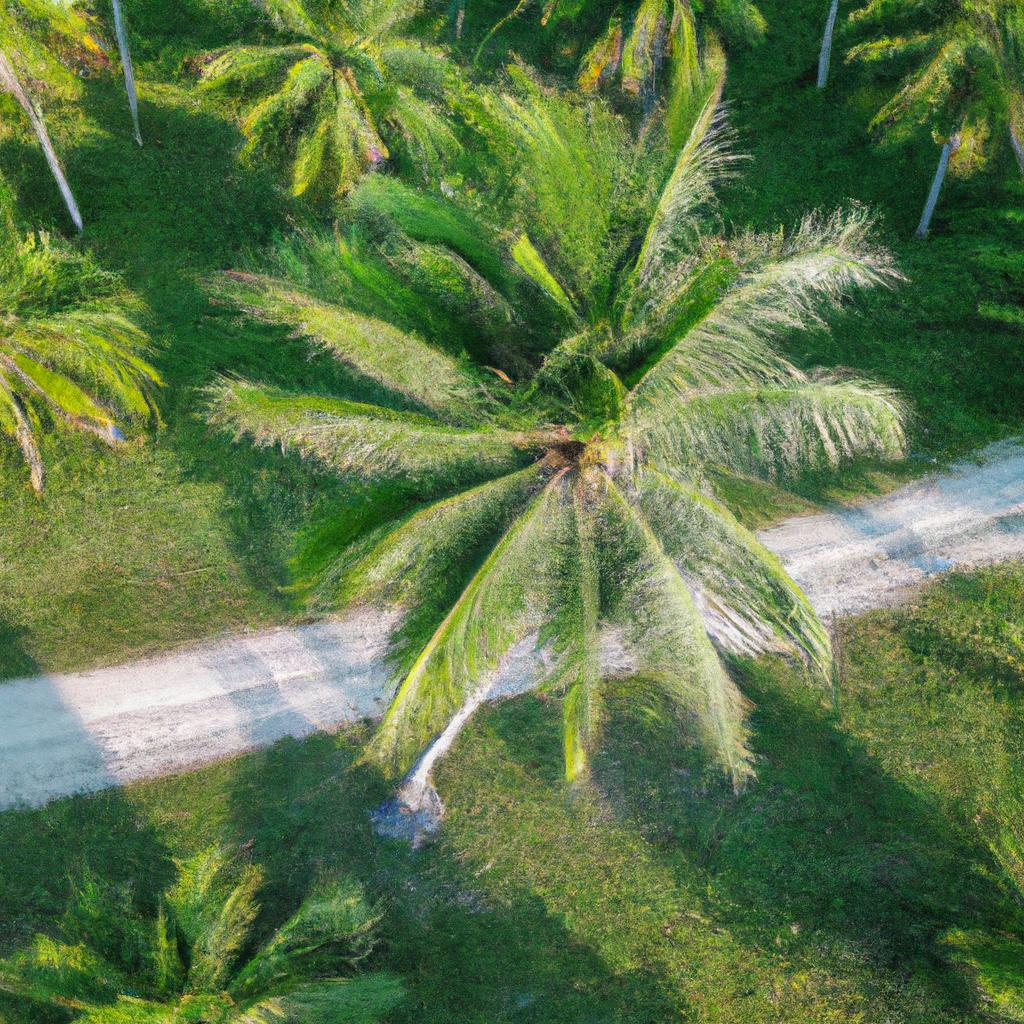coconut_tree: (197, 69, 916, 828), (187, 1, 514, 188)
